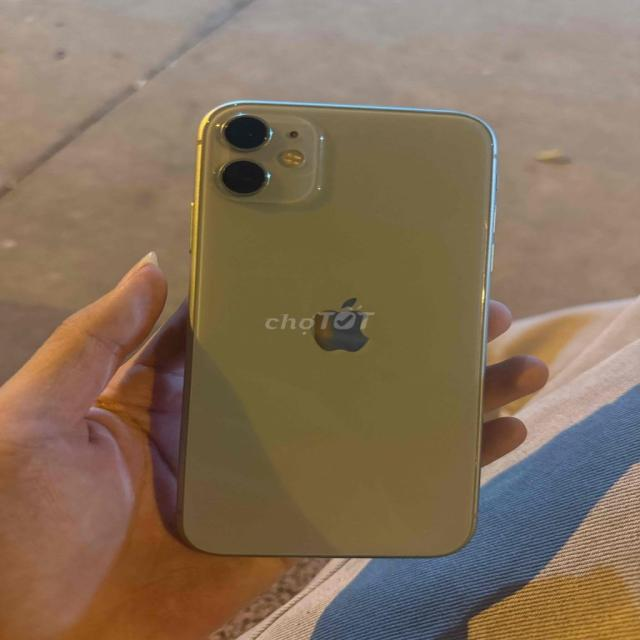gen_11: (178, 86, 505, 569)
